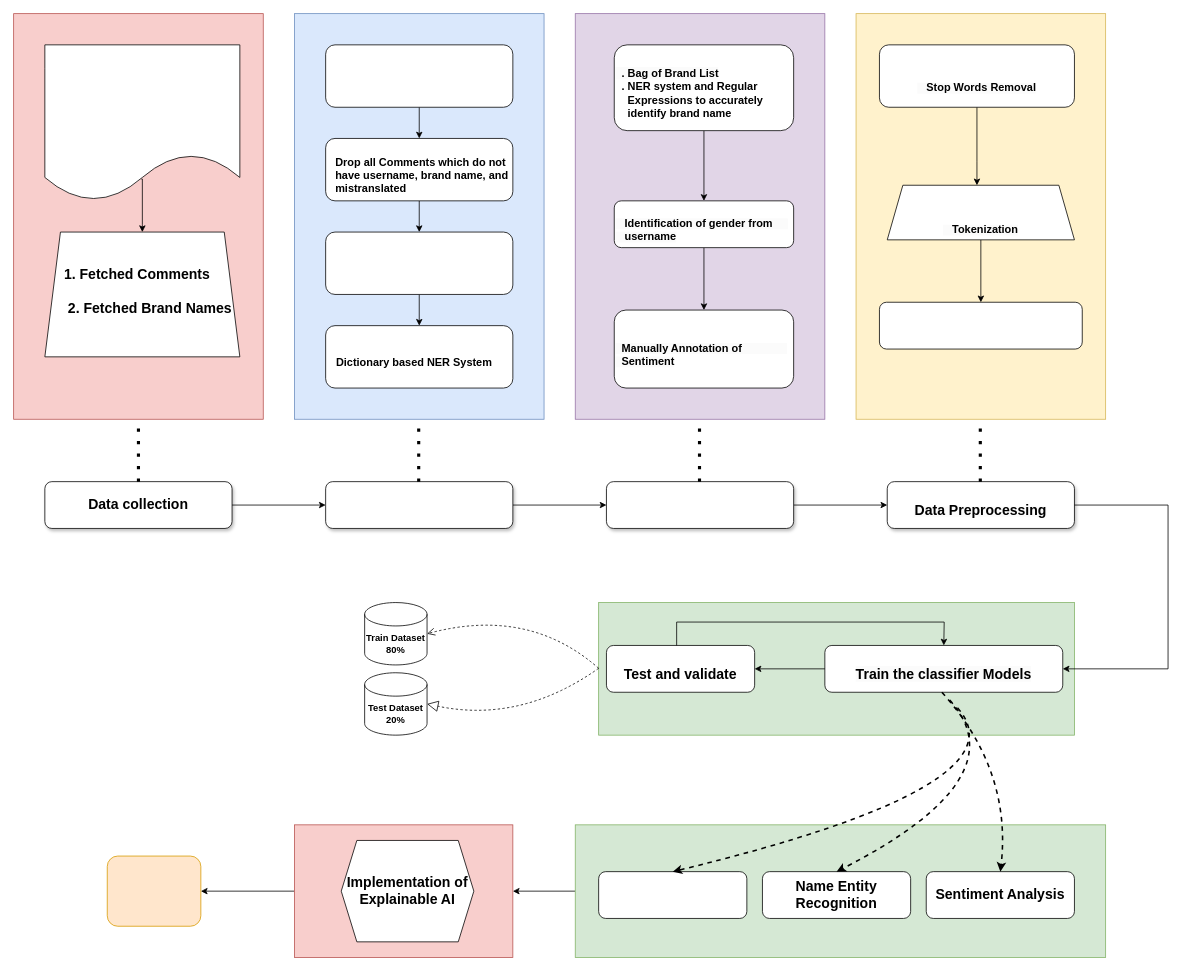
Some shapes in this 1188 by 971 pixel diagram are drawn without their labels. Each missing label, with the centre of its shape:
1. Social Media platform comments Scraping 2. Brand Model Name Scraping: the point at 142,122
Data Cleaning: the point at 420,506
Data Labelling: the point at 700,506
Gender Prediction: the point at 672,894
Local Interpretable Model-agnostic Explanations (LIME) XAI: the point at 153,890
Removal of Emojis, URLs, Special Characters, and punctuations: the point at 419,262
Stemming: the point at 980,325
Translate English Comment into Urdu and merge with Urdu dataset: the point at 419,75
